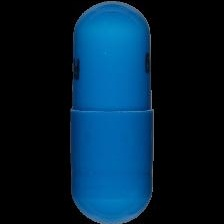43063-303: (0, 0, 224, 224)
